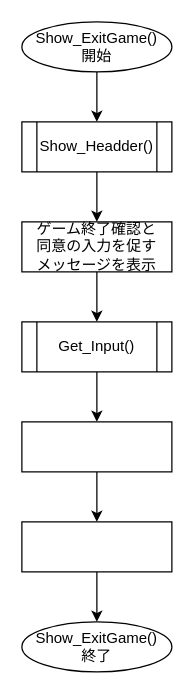
The diagram is 194 pixels wide and 694 high, and some of its shapes have lost their labels. The centre of each missing label's shape, as x and y in pixels:
Get_Input()の 返り値を返す: [96,546]
ターミナルの 出力を消す: [96,446]
